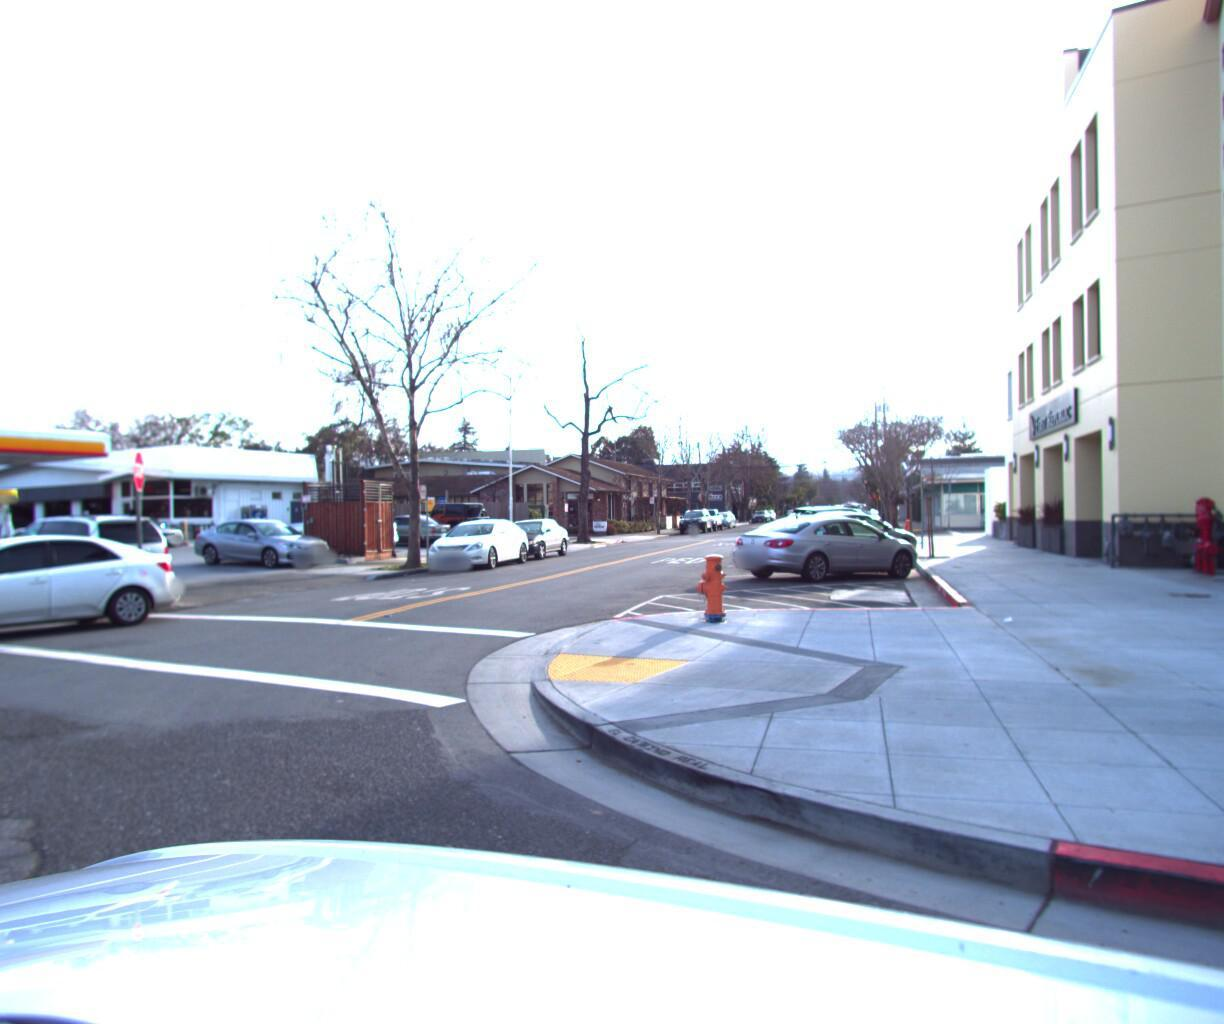car: (0, 531, 187, 663), (0, 509, 178, 593)
